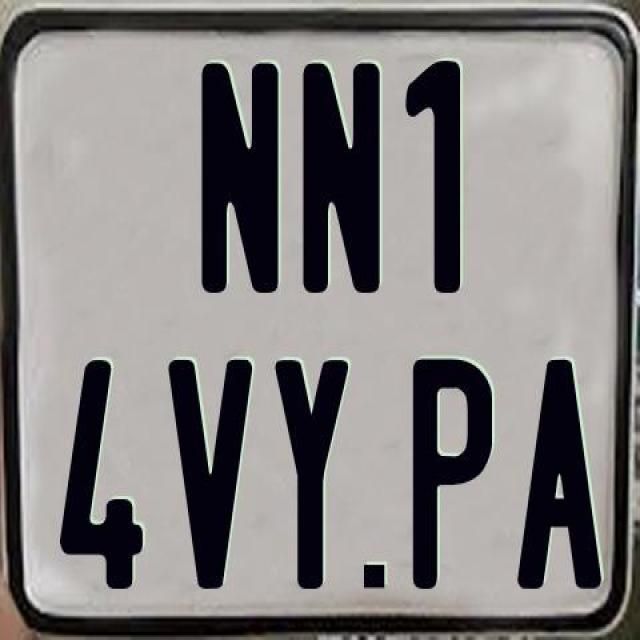1: (405, 56, 468, 298)
4: (58, 360, 146, 592)
A: (513, 357, 603, 596)
N: (200, 61, 284, 293), (301, 59, 379, 296)
P: (413, 355, 496, 592)
V: (166, 358, 258, 597)
Y: (275, 356, 353, 590)
